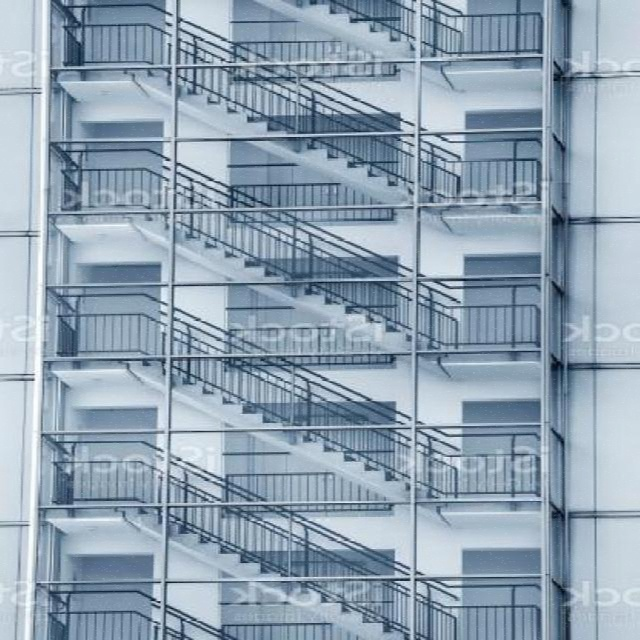stair: (62, 284, 548, 522)
